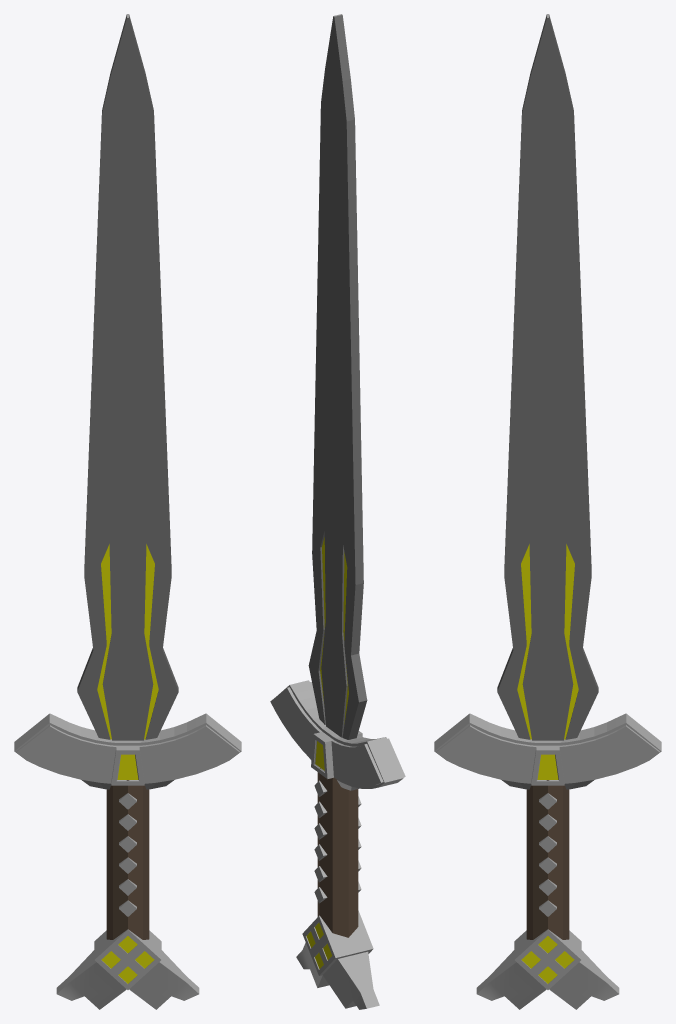
File: Paladin Sword.fbx
The picture shows the model from 3 angles, left to right: view 1: azimuth 90°, elevation 25°; view 2: azimuth 210°, elevation 25°; view 3: azimuth 270°, elevation 25°; orthographic projection.
Parts seen in each view (by area): view 1: Blade, Hilt; view 2: Blade, Hilt; view 3: Blade, Hilt.
Boxes of the visible parts, x1=… form: Blade: x1=14, y1=14, x2=241, y2=789; Hilt: x1=56, y1=780, x2=199, y2=1009; Blade: x1=270, y1=14, x2=405, y2=790; Hilt: x1=296, y1=767, x2=379, y2=1009; Blade: x1=434, y1=14, x2=661, y2=789; Hilt: x1=476, y1=780, x2=619, y2=1009.
Size of the model in its own units: 0.9366 by 23.02 by 4.79.
